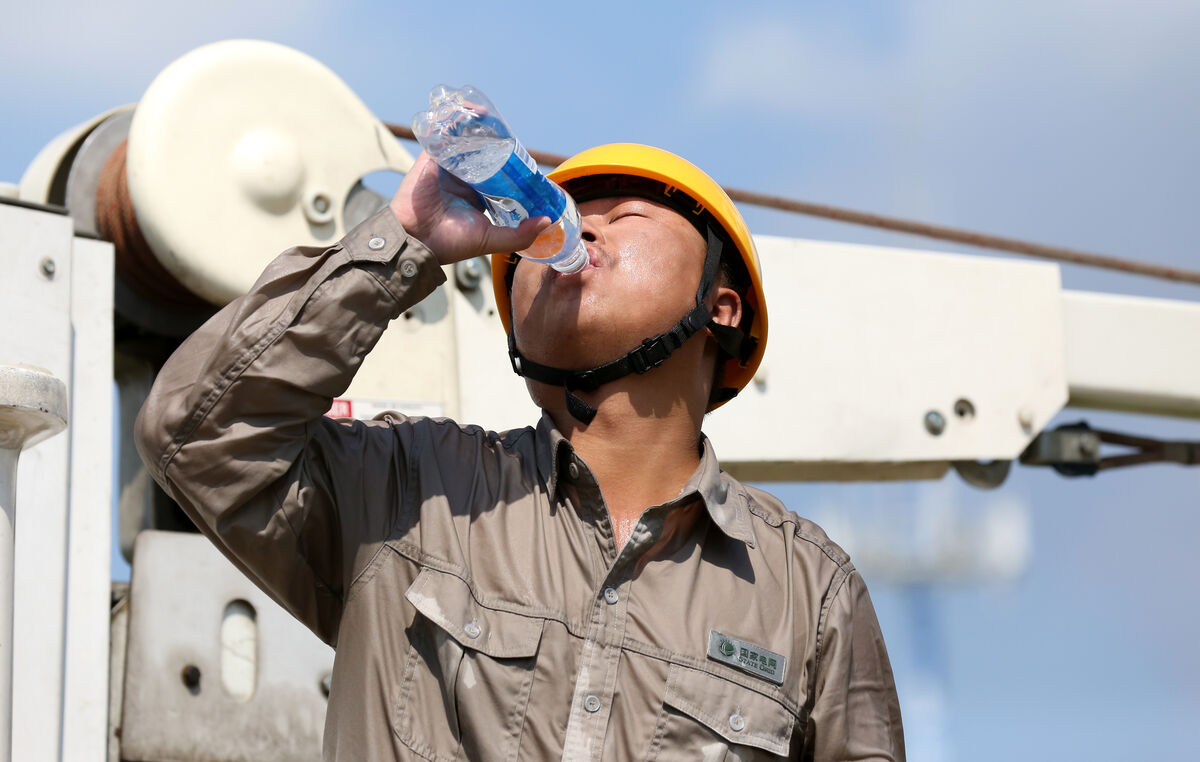safetyhat: (174, 82, 947, 762)
